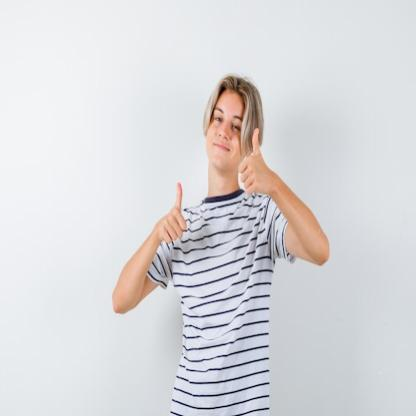thumb_up: (236, 125, 272, 198), (154, 178, 188, 246)
